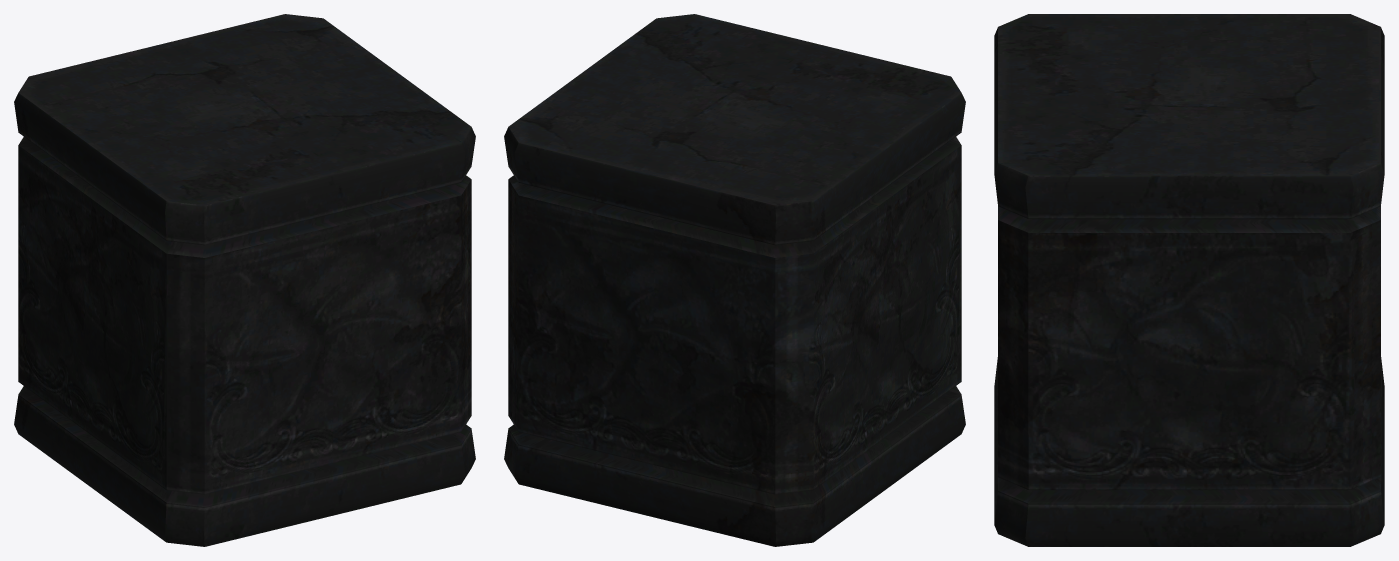
Rendered from Dream_block.DAE.
3 views of the same model, side by side, from view 1: azimuth 30°, elevation 25°; view 2: azimuth 150°, elevation 25°; view 3: azimuth 270°, elevation 25° (orthographic). The views are drawn at different scales.
Visible parts, largest first — view 1: Box001; view 2: Box001; view 3: Box001.
Boxes of the visible parts, box(x1,y1,x2,y2) form: Box001: box(14, 14, 475, 546); Box001: box(504, 14, 965, 546); Box001: box(994, 14, 1384, 546).
Bounding box in the file's own units: 0.0809 × 0.0849 × 0.0809.
